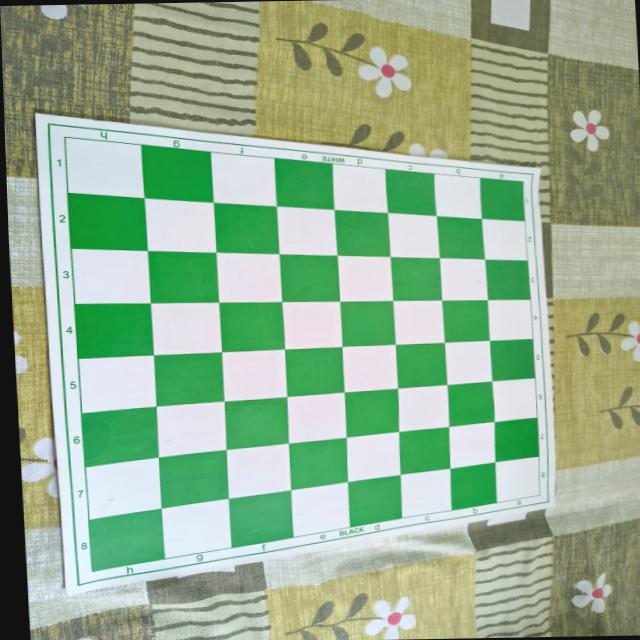square: (62, 134, 144, 198), (84, 509, 164, 574), (78, 408, 157, 470), (66, 192, 147, 252), (81, 458, 159, 520), (69, 245, 149, 304), (75, 356, 155, 414), (71, 302, 152, 356), (140, 142, 213, 200), (160, 500, 230, 560), (158, 451, 229, 510), (143, 196, 214, 254), (154, 402, 226, 459), (154, 354, 225, 408), (147, 250, 217, 304), (230, 492, 295, 549), (209, 152, 276, 207), (150, 306, 219, 358), (223, 398, 288, 453), (214, 201, 279, 256), (227, 444, 290, 499), (220, 349, 285, 402), (215, 252, 278, 304), (220, 302, 284, 353), (289, 483, 349, 536), (273, 156, 334, 208), (279, 252, 340, 303), (283, 347, 344, 398), (288, 439, 349, 490), (277, 203, 336, 255), (286, 392, 346, 443), (330, 209, 390, 259), (346, 476, 403, 528), (282, 300, 341, 350), (344, 432, 400, 482), (342, 389, 399, 438), (335, 254, 392, 303), (342, 344, 397, 394), (331, 164, 386, 213), (396, 428, 452, 476), (399, 468, 450, 518), (446, 463, 498, 512), (389, 255, 443, 302), (384, 168, 437, 215), (342, 302, 396, 348), (396, 342, 448, 389), (384, 212, 437, 258), (434, 214, 485, 261), (443, 382, 495, 428), (396, 385, 448, 431), (437, 256, 488, 300), (393, 300, 443, 344), (448, 422, 494, 469), (480, 176, 526, 222), (443, 341, 491, 385), (441, 300, 490, 343), (433, 173, 479, 218), (494, 456, 538, 503), (489, 339, 535, 383), (493, 418, 538, 462), (491, 378, 535, 422), (484, 258, 529, 300), (480, 219, 526, 260), (487, 299, 532, 340)
